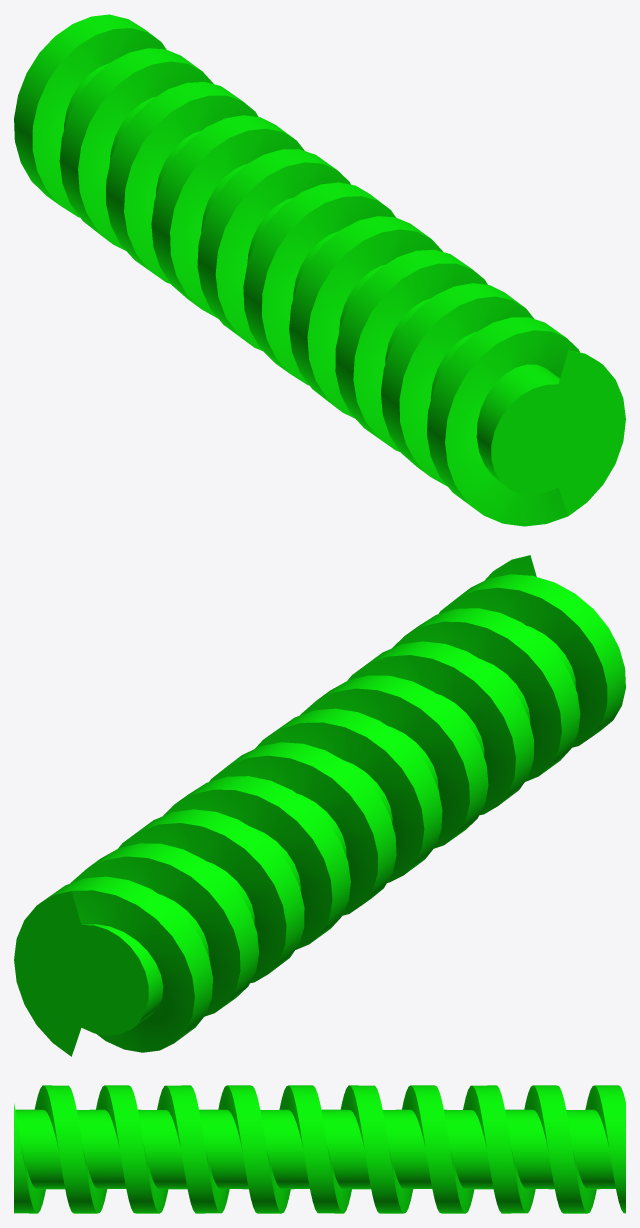
Rendered from linear-screw-1000.glb.
3 views of the same model, one above another, from view 1: azimuth 30°, elevation 25°; view 2: azimuth 150°, elevation 25°; view 3: azimuth 270°, elevation 25° (orthographic). The views are drawn at different scales.
Parts seen in each view (by area): view 1: Body4; view 2: Body4; view 3: Body4.
Part boxes in pixels (<box>): Body4: <box>14,14,625,526</box>; Body4: <box>14,555,625,1056</box>; Body4: <box>14,1085,625,1213</box>.
Size of the model in its own units: 0.21 by 0.21 by 1.
